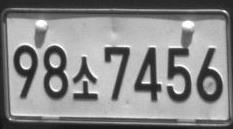4: (133, 46, 161, 101)
5: (165, 47, 192, 102)
6: (196, 47, 223, 103)
7: (103, 46, 130, 101)
8: (42, 44, 68, 99)
9: (12, 44, 38, 99)
소: (71, 55, 98, 100)
